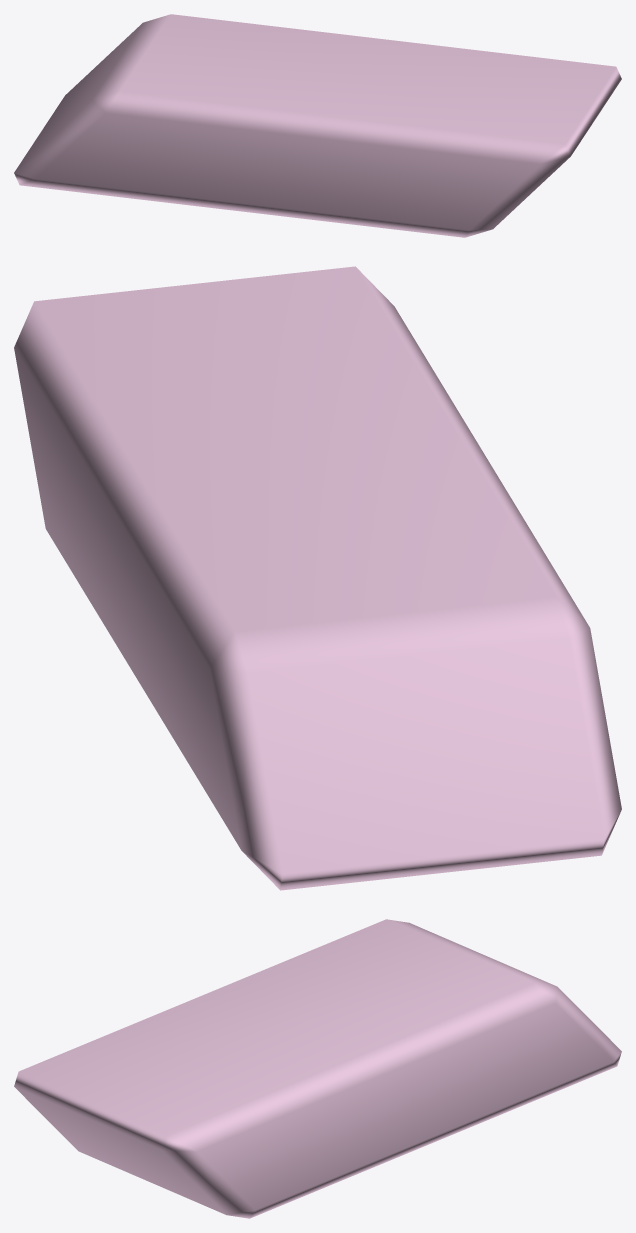
The model's file is eraser.fbx.
3 views of the same model, one above another, from view 1: azimuth 30°, elevation 25°; view 2: azimuth 150°, elevation 25°; view 3: azimuth 270°, elevation 25° (orthographic). The views are drawn at different scales.
Visible parts, largest first — view 1: pCube167; view 2: pCube167; view 3: pCube167.
Boxes of the visible parts, x1=… form: pCube167: x1=14, y1=14, x2=621, y2=237; pCube167: x1=14, y1=266, x2=621, y2=890; pCube167: x1=14, y1=919, x2=621, y2=1218.
Bounding box in the file's own units: 0.9014 × 0.1944 × 0.9106.
